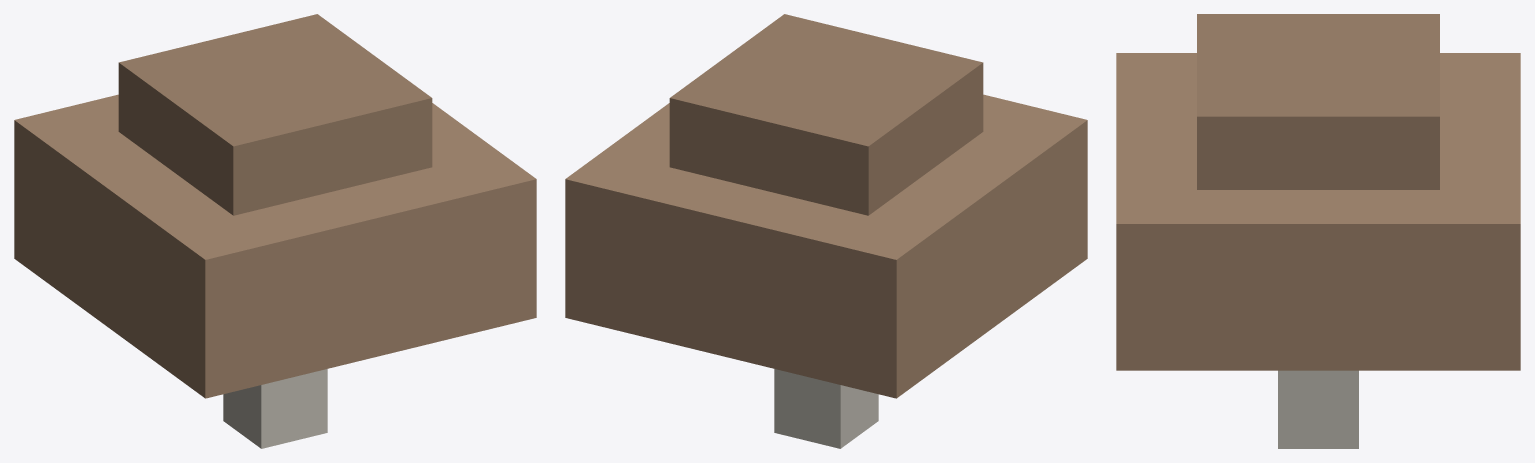
Rendered from boletus_02.glb.
3 renders of one model, left to right at view 1: azimuth 30°, elevation 25°; view 2: azimuth 150°, elevation 25°; view 3: azimuth 270°, elevation 25°, orthographic. The views are drawn at different scales.
Visible parts, largest first — view 1: boletus_02; view 2: boletus_02; view 3: boletus_02.
Boxes of the visible parts, bbox=[...] form: boletus_02: bbox=[14, 14, 536, 448]; boletus_02: bbox=[565, 14, 1087, 448]; boletus_02: bbox=[1116, 14, 1520, 448].
Bounding box in the file's own units: 0.5 × 0.5 × 0.5.
